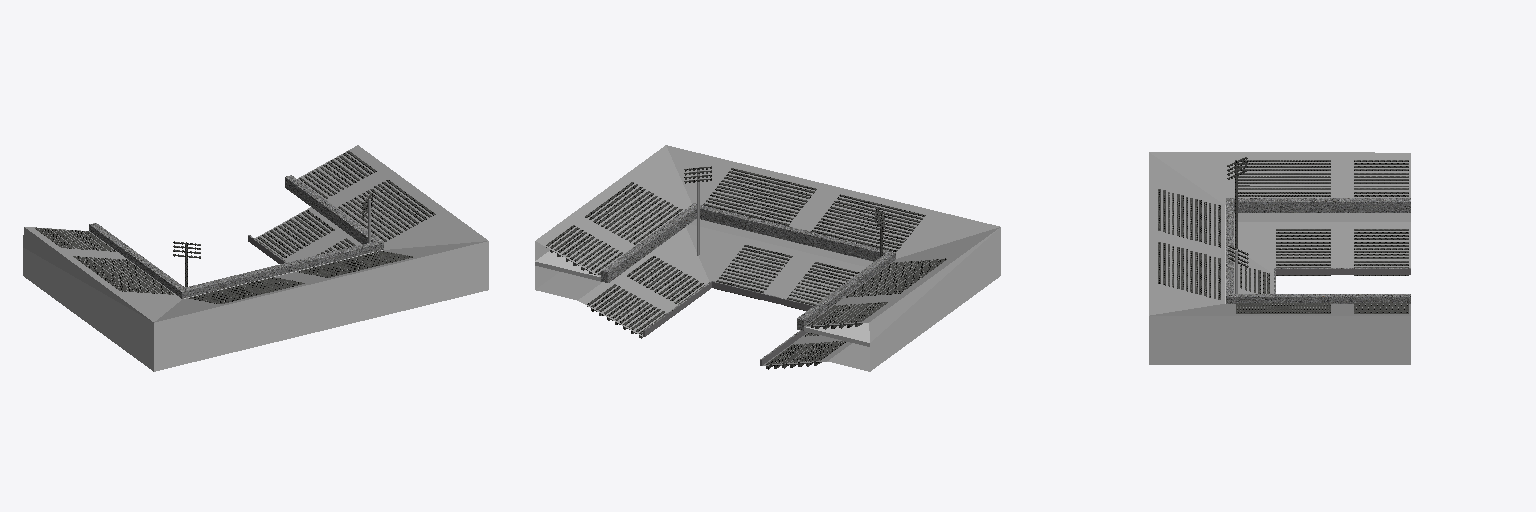
3 renders of one model, left to right at view 1: azimuth 30°, elevation 25°; view 2: azimuth 150°, elevation 25°; view 3: azimuth 270°, elevation 25°, orthographic.
Visible parts, largest first — view 1: Plane.005_Plane.006, Plane.015_Plane.020, Plane.011_Plane.016, Plane.009_Plane.010, Plane.014_Plane.019, Plane.012_Plane.017, Cube.012_Cube.016, Plane.010_Plane.015, Cube.025_Cube.113, Plane.002_Plane.003, Cube.006_Cube.010, Cube.014_Cube.018 (+7 smaller); view 2: Plane.010_Plane.015, Plane.011_Plane.016, Plane.001, Plane.002_Plane.003, Plane.009_Plane.010, Plane.014_Plane.019, Cube.012_Cube.016, Plane.012_Plane.017, Cube.022_Cube.117, Cube.021_Cube.109, Cube.025_Cube.113, Cube.014_Cube.018 (+16 smaller); view 3: Plane.012_Plane.017, Plane.010_Plane.015, Plane.007_Plane.008, Plane.013_Plane.018, Plane.003_Plane.004, Cube.013_Cube.017, Cube.023_Cube.115, Cube.014_Cube.018, Plane.008_Plane.009, Cube.021_Cube.109, Cube.022_Cube.117, Cube.017_Cube.105 (+9 smaller).
Boxes of the visible parts, box(x1,y1,x2,y2) form: Plane.005_Plane.006: box(154, 266, 488, 371); Plane.015_Plane.020: box(154, 241, 488, 342); Plane.011_Plane.016: box(298, 145, 487, 249); Plane.009_Plane.010: box(23, 252, 153, 371); Plane.014_Plane.019: box(23, 227, 153, 342); Plane.012_Plane.017: box(25, 227, 181, 321); Cube.012_Cube.016: box(185, 242, 376, 296); Plane.010_Plane.015: box(154, 241, 486, 322); Cube.025_Cube.113: box(338, 180, 435, 241); Plane.002_Plane.003: box(255, 207, 361, 262); Cube.006_Cube.010: box(116, 250, 488, 346); Cube.014_Cube.018: box(285, 175, 383, 250); Plane.010_Plane.015: box(666, 145, 999, 258); Plane.011_Plane.016: box(536, 145, 691, 276); Plane.001: box(686, 224, 865, 303); Plane.002_Plane.003: box(578, 227, 708, 336); Plane.009_Plane.010: box(870, 252, 1000, 371); Plane.014_Plane.019: box(869, 227, 1000, 342); Cube.012_Cube.016: box(700, 205, 887, 261); Plane.012_Plane.017: box(804, 227, 999, 326); Cube.022_Cube.117: box(703, 168, 816, 225); Cube.021_Cube.109: box(811, 194, 925, 251); Cube.025_Cube.113: box(585, 182, 682, 244); Cube.014_Cube.018: box(601, 203, 696, 282); Plane.012_Plane.017: box(1150, 152, 1410, 204); Plane.010_Plane.015: box(1149, 152, 1224, 315); Plane.007_Plane.008: box(1149, 340, 1410, 364); Plane.013_Plane.018: box(1149, 316, 1410, 335); Plane.003_Plane.004: box(1234, 222, 1410, 273); Cube.013_Cube.017: box(1226, 198, 1410, 212); Cube.023_Cube.115: box(1237, 160, 1330, 196); Cube.014_Cube.018: box(1226, 294, 1410, 303); Plane.008_Plane.009: box(1234, 213, 1410, 221); Cube.021_Cube.109: box(1158, 189, 1220, 247); Cube.022_Cube.117: box(1158, 242, 1220, 299); Cube.017_Cube.105: box(1276, 229, 1330, 275).
Size of the model in its own units: 141 by 40.81 by 95.52.
4 materials, 2 textured.